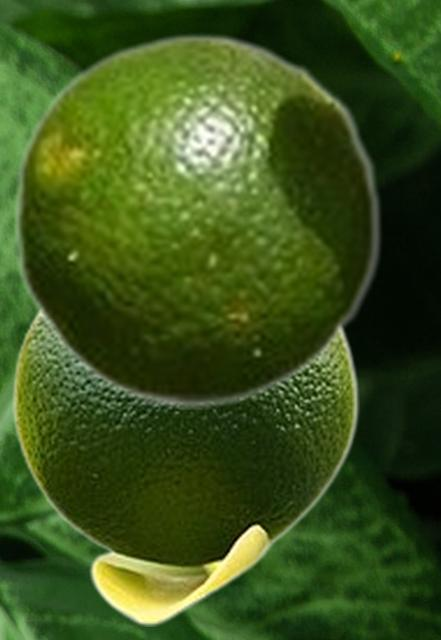calamansi: (11, 32, 383, 408), (12, 312, 358, 625)
